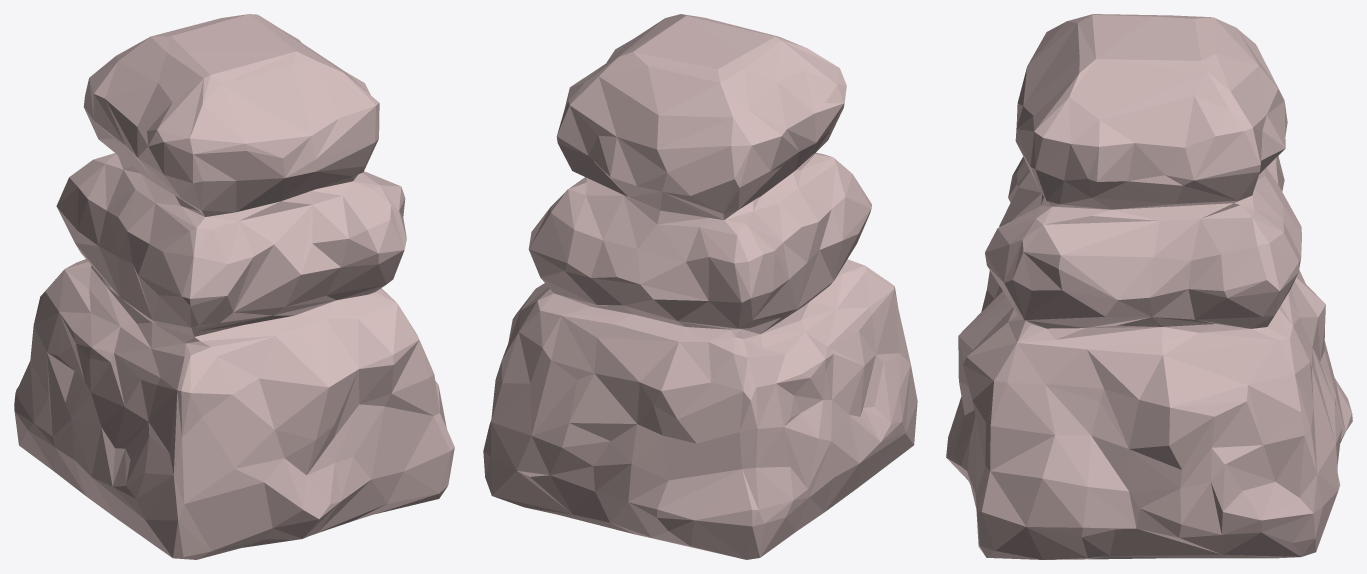
File: rockShrine.fbx
The picture shows the model from 3 angles, left to right: view 1: azimuth 30°, elevation 25°; view 2: azimuth 150°, elevation 25°; view 3: azimuth 270°, elevation 25°; orthographic projection. The views are drawn at different scales.
Parts seen in each view (by area): view 1: ruins2; view 2: ruins2; view 3: ruins2.
Boxes of the visible parts, x1,y1,x2,y2 form: ruins2: (14,14,454,559); ruins2: (483,14,917,559); ruins2: (946,14,1352,559).
Size of the model in its own units: 2.38 by 3.07 by 2.49.
